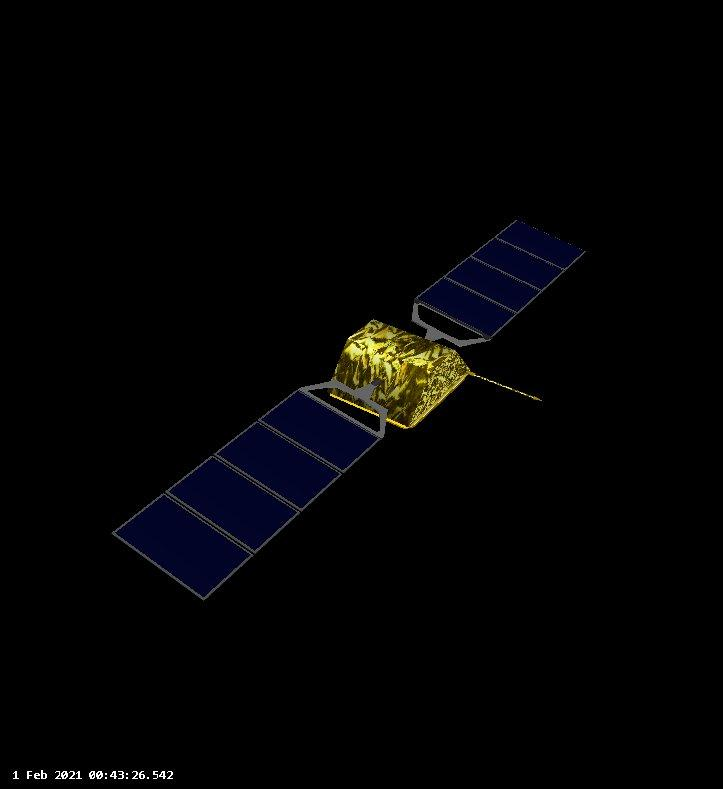antenna: (468, 370, 546, 405)
body: (327, 316, 472, 433)
solar: (108, 387, 384, 604), (412, 216, 590, 342)
